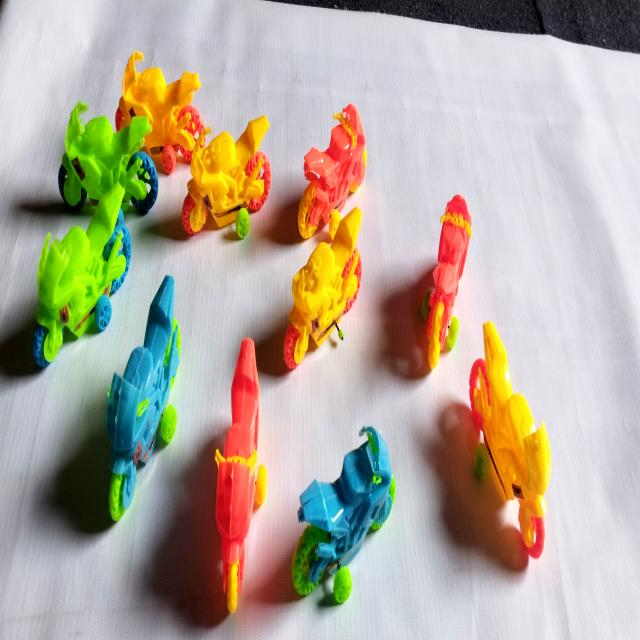bikes: (469, 321, 551, 558), (106, 276, 181, 521), (292, 427, 395, 603), (33, 187, 131, 366), (215, 338, 267, 611), (284, 207, 362, 369), (59, 102, 158, 214), (115, 51, 205, 174), (182, 116, 271, 239), (298, 104, 367, 239), (422, 195, 472, 369)
